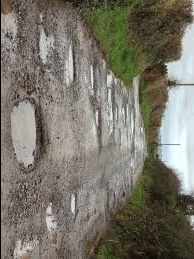pothole: (9, 94, 44, 179), (0, 1, 27, 61), (47, 199, 63, 257), (36, 24, 55, 65), (7, 236, 39, 257), (65, 43, 75, 87), (107, 72, 115, 121), (67, 192, 80, 220), (94, 108, 104, 139), (88, 64, 96, 94), (128, 112, 135, 136), (104, 187, 109, 215), (114, 105, 119, 122), (112, 191, 117, 208)
